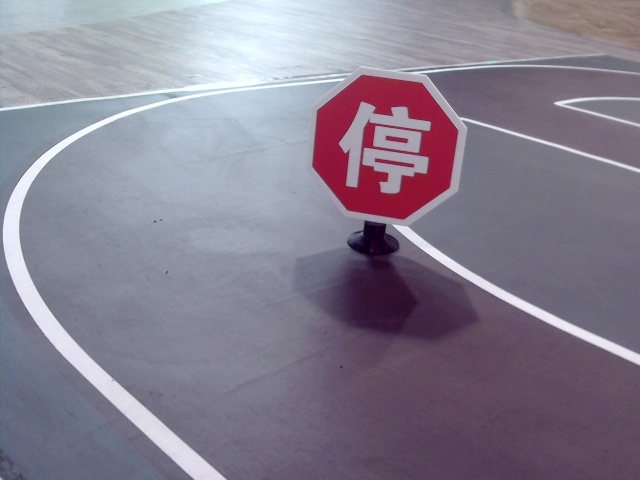stop: (338, 98, 431, 193)
